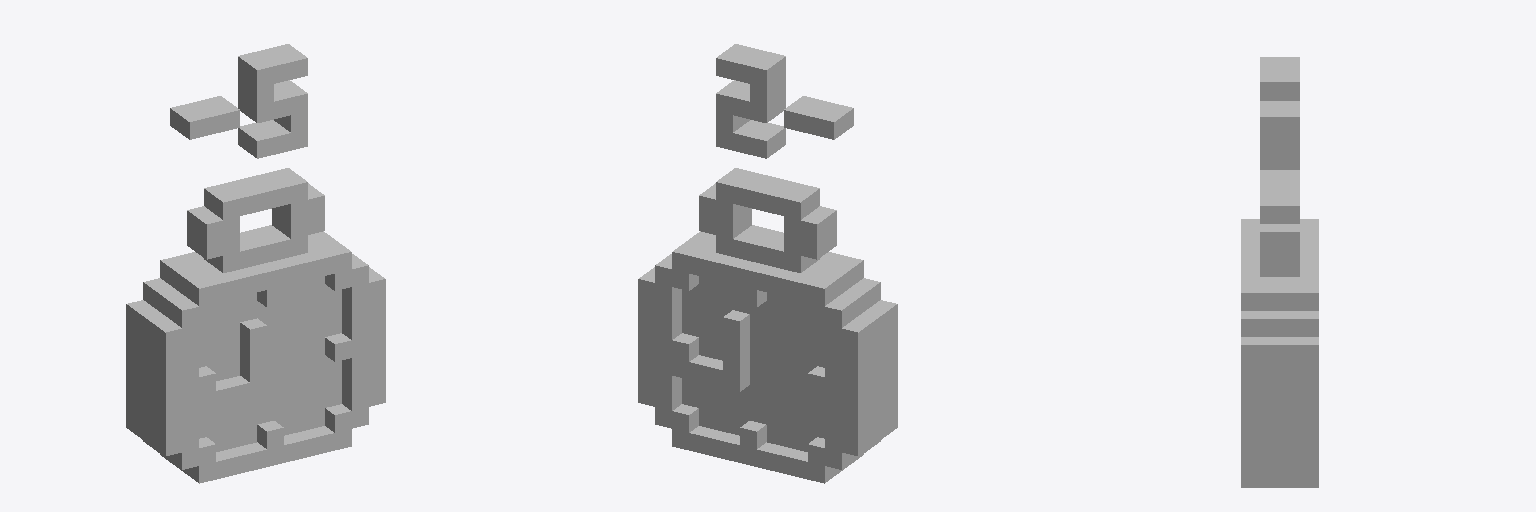
Rendered from Stopwatch - 3.obj.
The picture shows the model from 3 angles: view 1: azimuth 30°, elevation 25°; view 2: azimuth 150°, elevation 25°; view 3: azimuth 270°, elevation 25°; orthographic projection.
Parts seen in each view (by area): view 1: object 1; view 2: object 1; view 3: object 1.
Boxes of the visible parts, x1,y1,x2,y2 form: object 1: [126, 44, 385, 483]; object 1: [638, 44, 897, 483]; object 1: [1241, 57, 1318, 487].
Bounding box in the file's own units: 1.3 × 2.2 × 0.4.